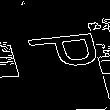P_E: (10, 32, 100, 78)
